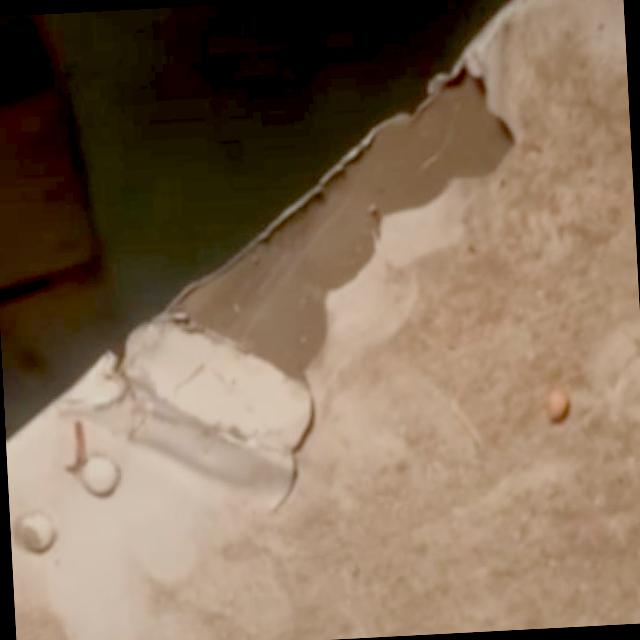crack: (250, 384, 334, 504)
